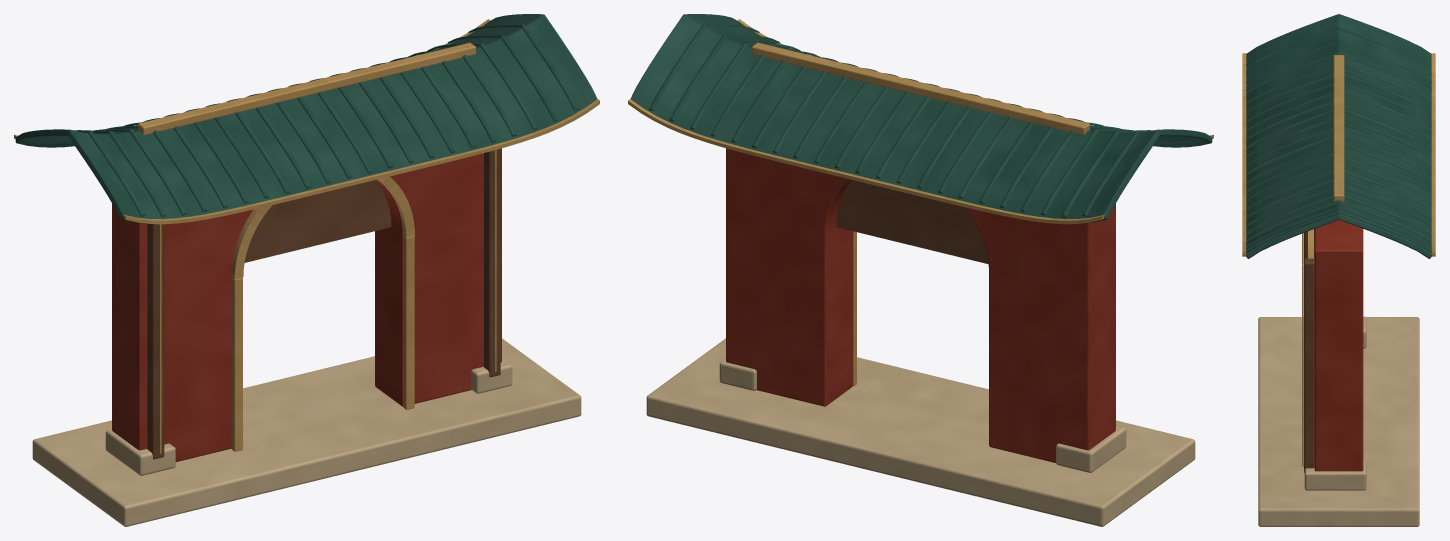
File: mountain-gate-frame.glb
The picture shows the model from 3 angles, left to right: view 1: azimuth 30°, elevation 25°; view 2: azimuth 150°, elevation 25°; view 3: azimuth 270°, elevation 25°; orthographic projection. The views are drawn at different scales.
Parts seen in each view (by area): view 1: GateFrame; view 2: GateFrame; view 3: GateFrame.
Boxes of the visible parts, left/top/right/bottom form: GateFrame: left=14, top=14, right=599, bottom=526; GateFrame: left=628, top=14, right=1213, bottom=526; GateFrame: left=1242, top=14, right=1435, bottom=526.
Size of the model in its own units: 7.11 by 5.2 by 2.87.
Materials: 5 (5 with a texture image).
